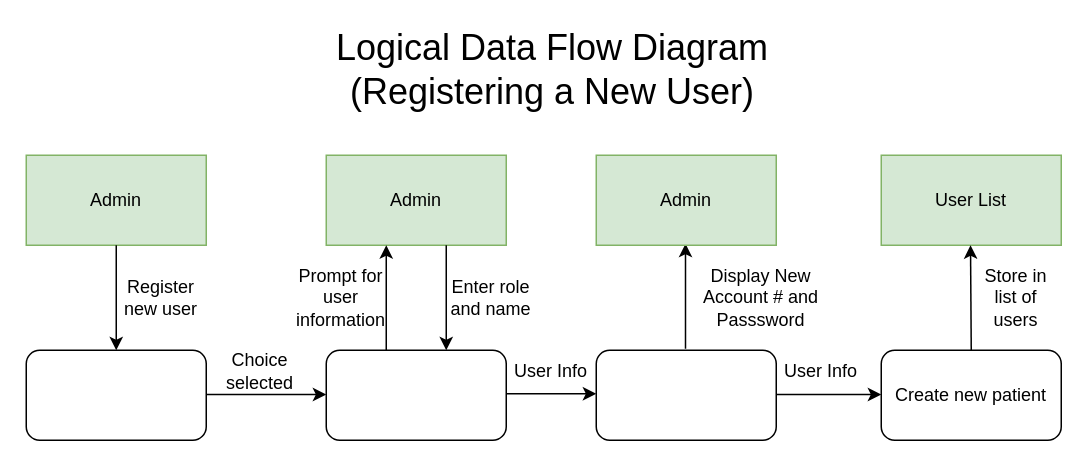
This 1088x467 diagram has some shape labels left out. The shapes that lost their labels are listed below. From the top down, each one's centre as x and y in pixels, then its label:
the point at 115,394: Identify Choice
the point at 415,394: Collect New User Information
the point at 685,394: Create account number and password
